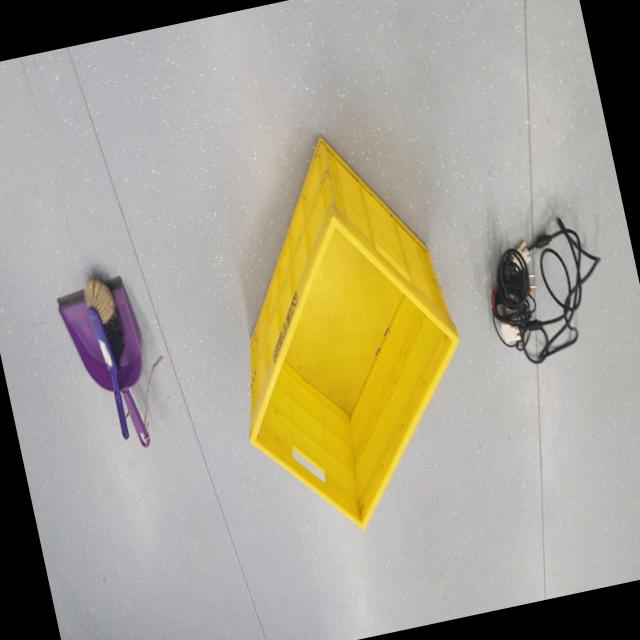box: (183, 104, 506, 561)
